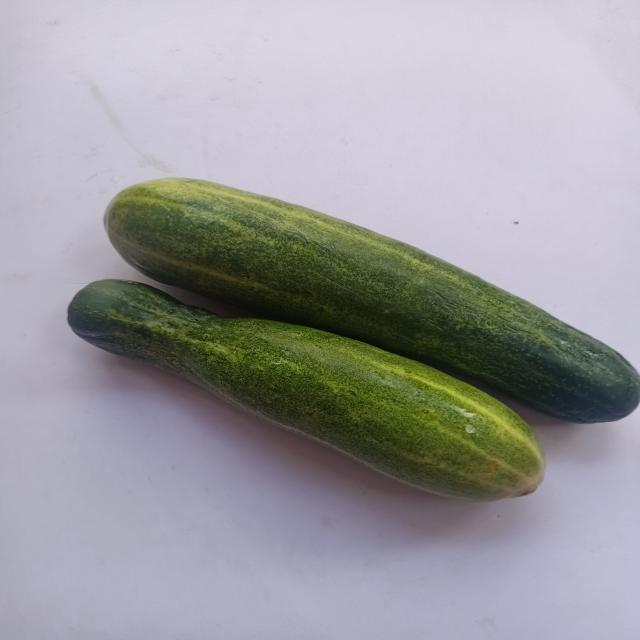Cucumber: (103, 178, 640, 423), (67, 279, 545, 502)
